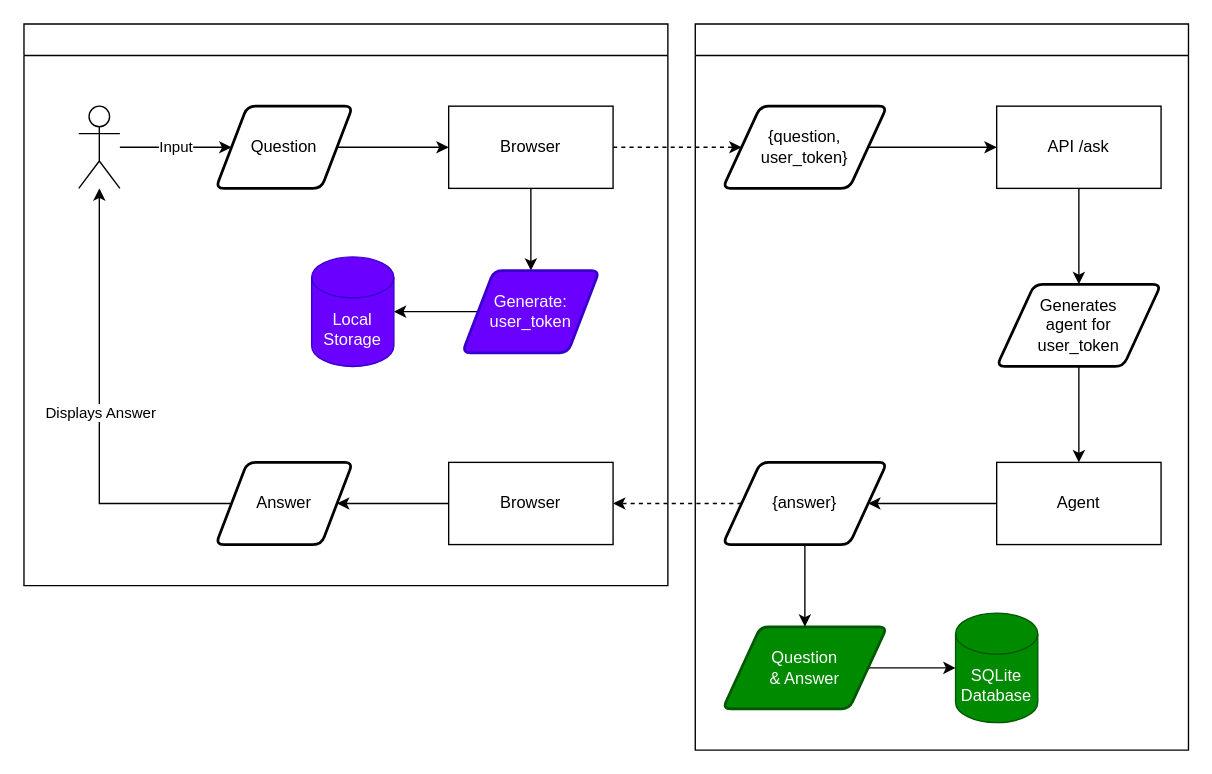
Image size: 1212x774. Some labels were removed from this diagram. Each missing label, with the centre of its shape:
"Example Client: DeFiChainWiki" goes at point (345, 304).
"Fly.io backend" goes at point (941, 386).
